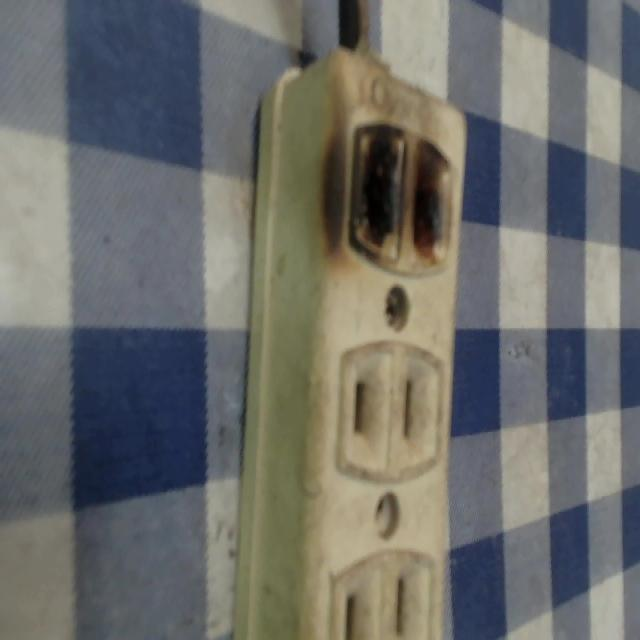-: (334, 112, 458, 277)
